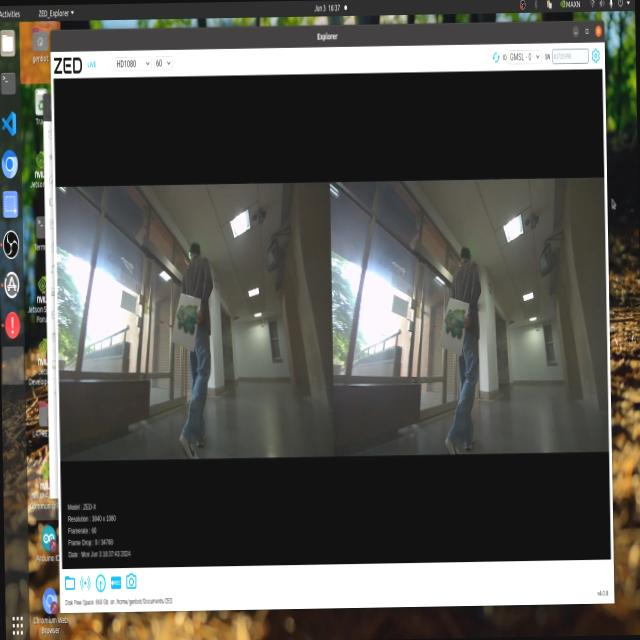green: (426, 292, 472, 348), (175, 294, 204, 348)
